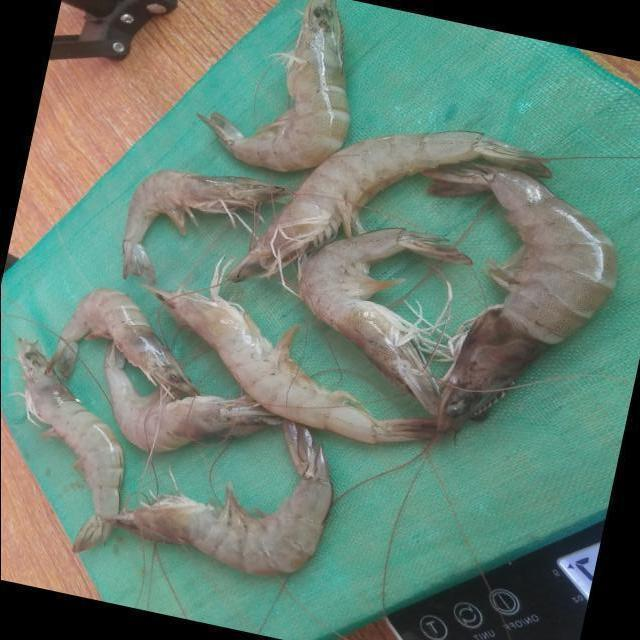shrimp: (432, 166, 615, 432), (230, 132, 549, 281), (150, 280, 436, 443), (115, 421, 332, 574), (299, 229, 469, 414), (200, 0, 349, 172), (18, 339, 124, 552), (105, 345, 281, 452), (124, 170, 288, 284), (51, 289, 198, 399)
